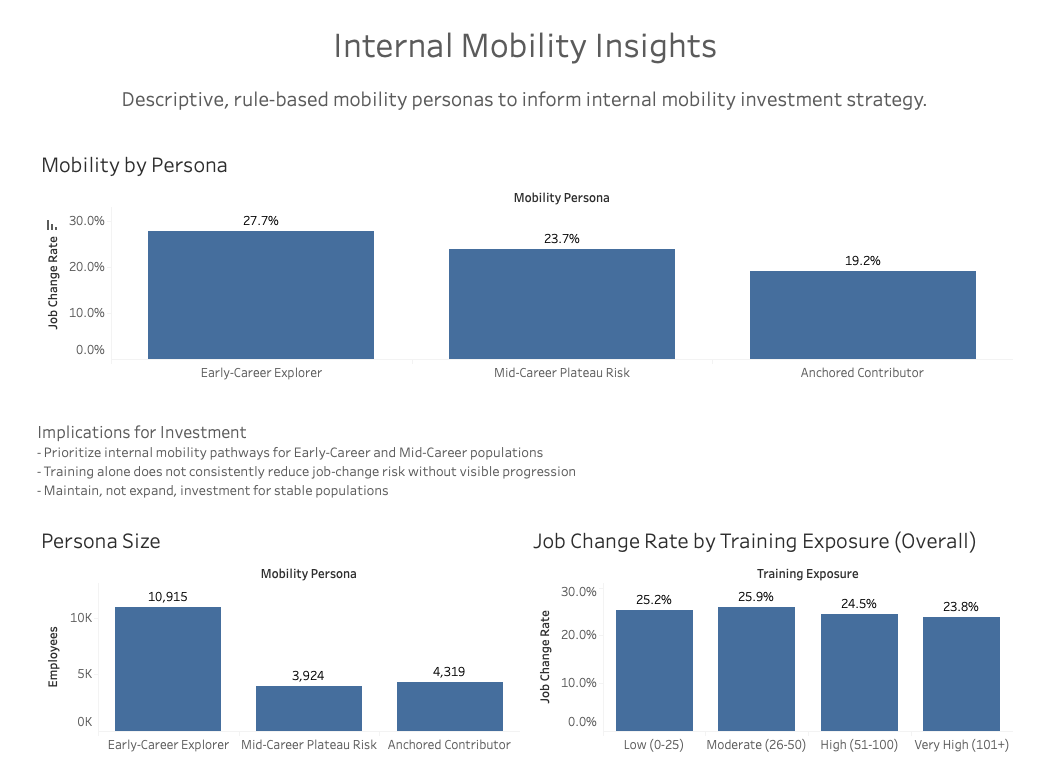

What the dashboard file says about the page in this screenshot:
{"tool":"tableau","page":{"name":"Internal Mobility Insights","canvas":[1000,800],"ordinal":0},"visuals":[{"type":"text","box":[8,8,984,149]},{"type":"worksheet","title":"Mobility by Persona","mark":"Automatic","rows":["Calculation_0014525487738891"],"cols":["mobility_persona"],"box":[8,157,984,263]},{"type":"text","box":[8,420,984,113]},{"type":"worksheet","title":"Persona Size","mark":"Automatic","rows":["enrollee_id"],"cols":["mobility_persona"],"box":[8,533,492,259]},{"type":"worksheet","title":"Job Change Rate by Training Exposure (Overall)","mark":"Automatic","rows":["Calculation_0014525487738891"],"cols":["training_hours_bin"],"box":[500,533,492,259]}]}

Visuals, with their boxes on the page's 1000x800 design canvas (x1, y1, x2, y2). These are canvas units, not pixel positions in the 1050x771 screenshot, which may show the page scaled, cropped or inside an application window:
text: [left=8, top=8, right=992, bottom=157]
"Mobility by Persona" worksheet: [left=8, top=157, right=992, bottom=420]
text: [left=8, top=420, right=992, bottom=533]
"Persona Size" worksheet: [left=8, top=533, right=500, bottom=792]
"Job Change Rate by Training Exposure (Overall)" worksheet: [left=500, top=533, right=992, bottom=792]
